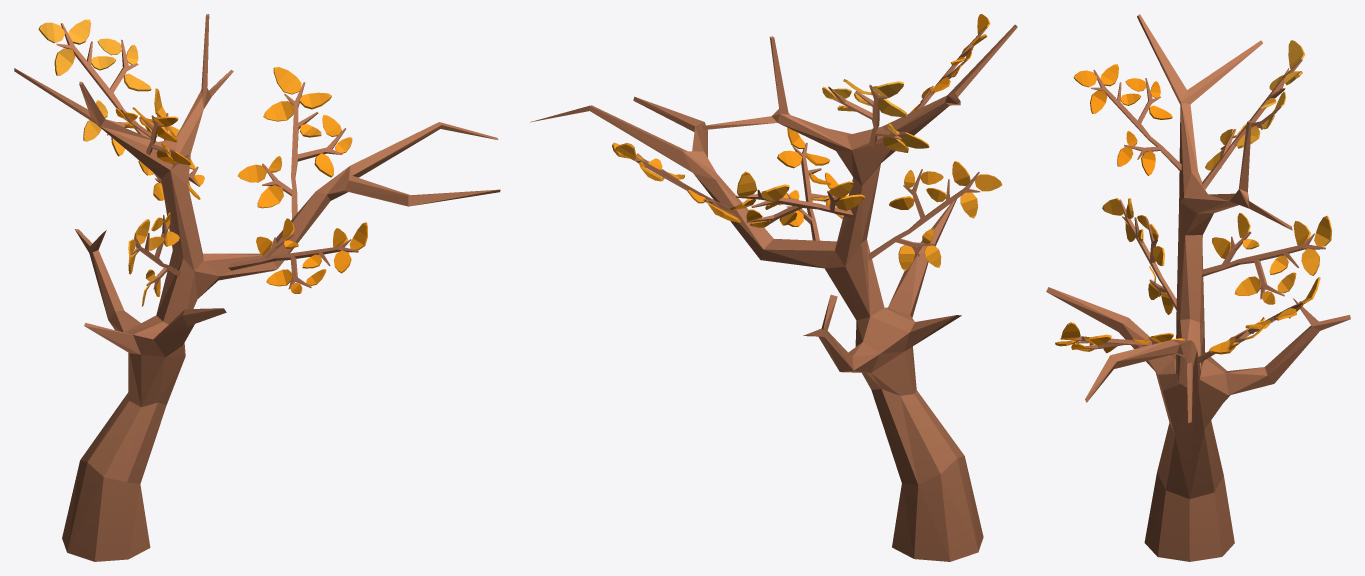
File: tree.fbx
The picture shows the model from 3 angles, left to right: view 1: azimuth 30°, elevation 25°; view 2: azimuth 150°, elevation 25°; view 3: azimuth 270°, elevation 25°; orthographic projection. The views are drawn at different scales.
Parts seen in each view (by area): view 1: tree; view 2: tree; view 3: tree.
Part boxes in pixels (x1,y1,x2,y2): tree: (14,14,500,561); tree: (530,14,1017,561); tree: (1046,14,1350,561).
Size of the model in its own units: 713 by 747 by 410.
